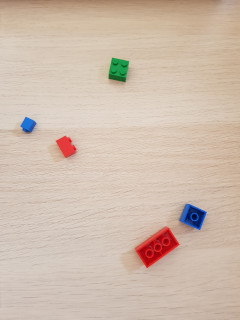1x1 blue: (20, 115, 37, 134)
1x2 red: (55, 135, 76, 159)
2x2 blue: (179, 204, 208, 230)
2x2 green: (109, 57, 130, 82)
2x4 red: (136, 227, 180, 267)
